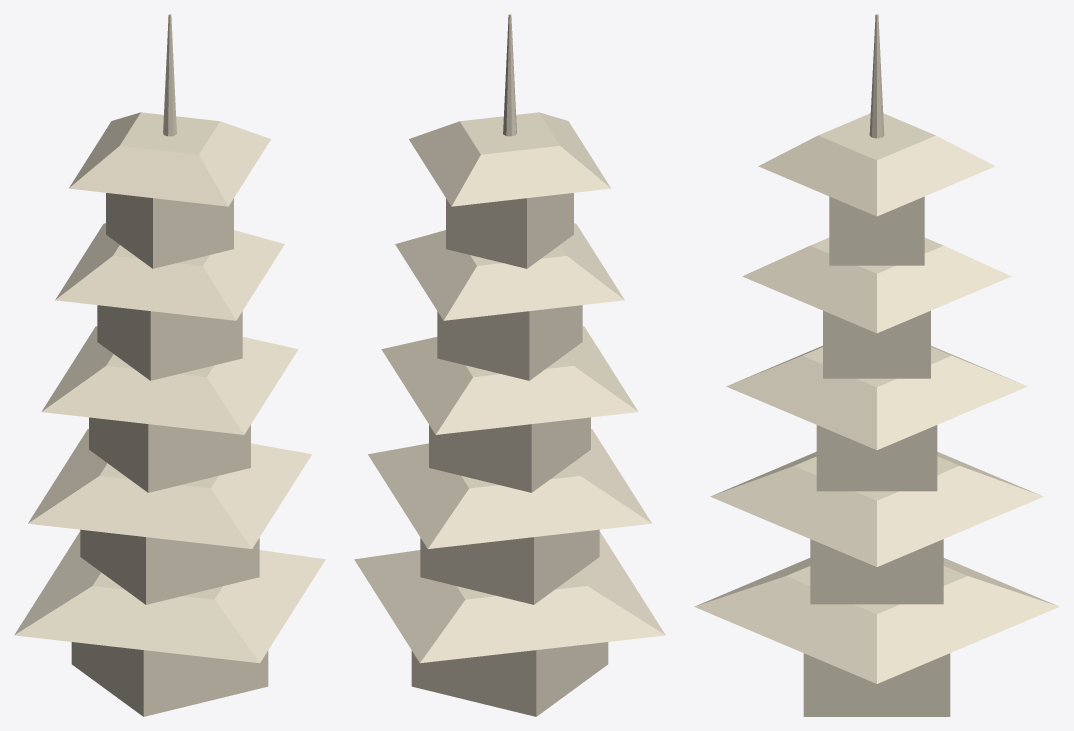
File: place-horyu-ji.glb
The picture shows the model from 3 angles, left to right: view 1: azimuth 30°, elevation 25°; view 2: azimuth 150°, elevation 25°; view 3: azimuth 270°, elevation 25°; orthographic projection.
Visible parts, largest first — view 1: place-horyu-ji; view 2: place-horyu-ji; view 3: place-horyu-ji.
Part boxes in pixels (x1,y1,x2,y2): place-horyu-ji: (14,14,325,716); place-horyu-ji: (354,14,665,716); place-horyu-ji: (694,14,1059,716).
Size of the model in its own units: 16.05 by 32.5 by 16.05.
